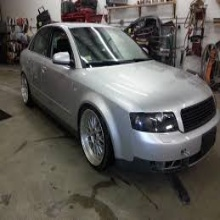no damage: (18, 21, 219, 173)
